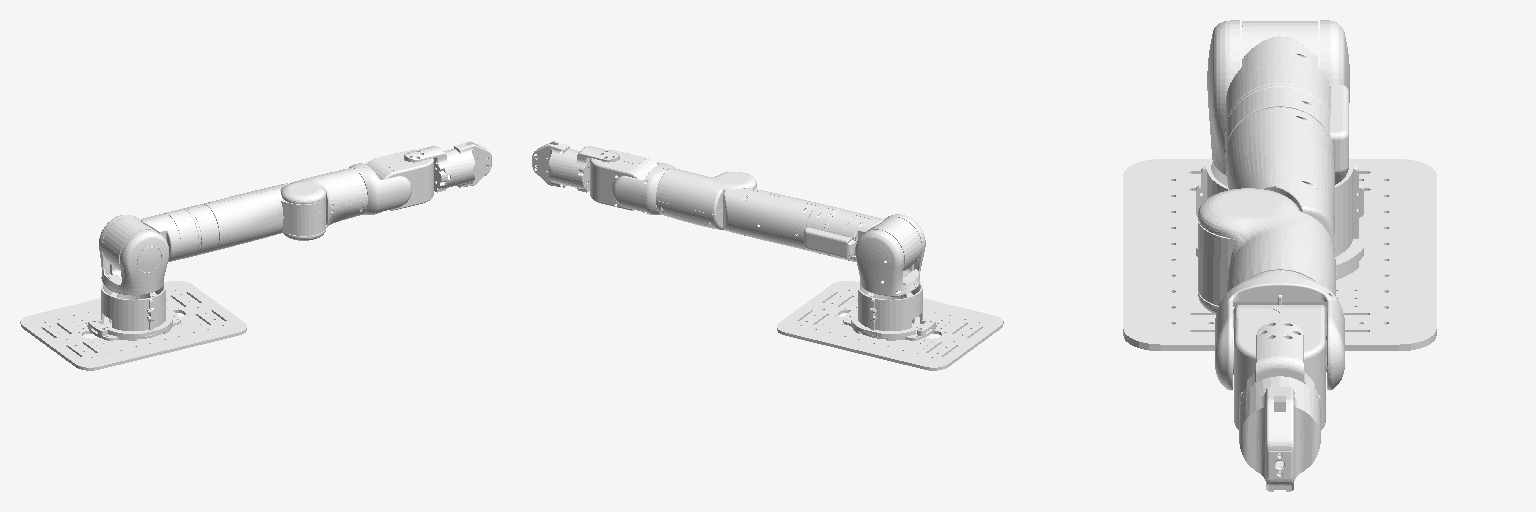
robot.urdf — robot_v0_1:
<?xml version="1.0" encoding="utf-8"?>
<!-- This URDF was automatically created by SolidWorks to URDF Exporter! Originally created by Stephen Brawner (brawner@gmail.com) 
     Commit Version: 1.6.0-1-g15f4949  Build Version: 1.6.7594.29634
     For more information, please see http://wiki.ros.org/sw_urdf_exporter -->
<robot
  name="robot_v0_1">
  <link
    name="Link_Base">
    <inertial>
      <origin
        xyz="0 0 0"
        rpy="0 0 0" />
      <mass
        value="0.73699097379513" />
      <inertia
        ixx="0.00310424608762092"
        ixy="2.04936789114909E-08"
        ixz="1.79945089448292E-06"
        iyy="0.00517845082119307"
        iyz="1.41495733008371E-08"
        izz="0.00806042356140205" />
    </inertial>
    <visual>
      <origin
        xyz="0 0 0"
        rpy="0 0 0" />
      <geometry>
        <mesh
          filename="../meshes/robot_v0_1/Link_Base_to_Shoulder_Inner.STL" />
      </geometry>
      <material
        name="">
        <color
          rgba="1 1 1 1" />
      </material>
    </visual>
    <collision>
      <origin
        xyz="0 0 0"
        rpy="0 0 0" />
      <geometry>
        <mesh
          filename="../meshes/robot_v0_1/Link_Base_to_Shoulder_Inner.STL" />
      </geometry>
    </collision>
  </link>
  <link
    name="Link_Shoulder_Inner_to_Shoulder_Outer">
    <inertial>
      <origin
        xyz="1.17646746075416E-05 -0.00561404287247842 0.0372121857080571"
        rpy="0 0 0" />
      <mass
        value="0.0942819142876385" />
      <inertia
        ixx="0.000185708314494992"
        ixy="-1.3218831985228E-08"
        ixz="5.35264232292923E-08"
        iyy="0.000100037331363557"
        iyz="8.5761701965383E-06"
        izz="0.000125340365369981" />
    </inertial>
    <visual>
      <origin
        xyz="0 0 0"
        rpy="0 0 0" />
      <geometry>
        <mesh
          filename="../meshes/robot_v0_1/Link_Shoulder_Inner_to_Shoulder_Outer.STL" />
      </geometry>
      <material
        name="">
        <color
          rgba="1 1 1 1" />
      </material>
    </visual>
    <collision>
      <origin
        xyz="0 0 0"
        rpy="0 0 0" />
      <geometry>
        <mesh
          filename="../meshes/robot_v0_1/Link_Shoulder_Inner_to_Shoulder_Outer.STL" />
      </geometry>
    </collision>
  </link>
  <joint
    name="Joint_Shoulder_Inner"
    type="revolute">
    <origin
      xyz="0 0 0.08"
      rpy="0 0 0" />
    <parent
      link="Link_Base" />
    <child
      link="Link_Shoulder_Inner_to_Shoulder_Outer" />
    <axis
      xyz="0 0 -1" />
    <limit
      lower="-2.897"
      upper="2.897"
      effort="18"
      velocity="0" />
  </joint>
  <link
    name="Link_Shoulder_Outer_to_UpperArm">
    <inertial>
      <origin
        xyz="0.0659231854341761 0.00400437161052575 -0.00114584286675949"
        rpy="0 0 0" />
      <mass
        value="0.247437187890716" />
      <inertia
        ixx="0.000289283072638283"
        ixy="-1.80267064277213E-06"
        ixz="-6.53308880372684E-06"
        iyy="0.000237983141148319"
        iyz="7.77972724650864E-07"
        izz="0.000339442732350915" />
    </inertial>
    <visual>
      <origin
        xyz="0 0 0"
        rpy="0 0 0" />
      <geometry>
        <mesh
          filename="../meshes/robot_v0_1/Link_Shoulder_Outer_to_UpperArm.STL" />
      </geometry>
      <material
        name="">
        <color
          rgba="1 1 1 1" />
      </material>
    </visual>
    <collision>
      <origin
        xyz="0 0 0"
        rpy="0 0 0" />
      <geometry>
        <mesh
          filename="../meshes/robot_v0_1/Link_Shoulder_Outer_to_UpperArm.STL" />
      </geometry>
    </collision>
  </link>
  <joint
    name="Joint_Shoulder_Outer"
    type="revolute">
    <origin
      xyz="0 0 0.0765000000000024"
      rpy="1.5707963267949 0 0" />
    <parent
      link="Link_Shoulder_Inner_to_Shoulder_Outer" />
    <child
      link="Link_Shoulder_Outer_to_UpperArm" />
    <axis
      xyz="0 0 1" />
    <limit
      lower="-0.314"
      upper="3.141"
      effort="18"
      velocity="0" />
  </joint>
  <link
    name="Link_UpperArm_to_Elbow">
    <inertial>
      <origin
        xyz="0.00263835411199406 0.0173508363008802 0.174137531716063"
        rpy="0 0 0" />
      <mass
        value="0.073458238101229" />
      <inertia
        ixx="0.000107400492801366"
        ixy="5.42782694620302E-06"
        ixz="7.38478381272835E-06"
        iyy="6.97322418221424E-05"
        iyz="-1.18017964033204E-05"
        izz="6.43288696275371E-05" />
    </inertial>
    <visual>
      <origin
        xyz="0 0 0"
        rpy="0 0 0" />
      <geometry>
        <mesh
          filename="../meshes/robot_v0_1/Link_UpperArm_to_Elbow.STL" />
      </geometry>
      <material
        name="">
        <color
          rgba="1 1 1 1" />
      </material>
    </visual>
    <collision>
      <origin
        xyz="0 0 0"
        rpy="0 0 0" />
      <geometry>
        <mesh
          filename="../meshes/robot_v0_1/Link_UpperArm_to_Elbow.STL" />
      </geometry>
    </collision>
  </link>
  <joint
    name="Joint_UpperArm"
    type="revolute">
    <origin
      xyz="0.151000000002354 0.00449999992100339 0"
      rpy="1.5707963267949 0 1.57079632627174" />
    <parent
      link="Link_Shoulder_Outer_to_UpperArm" />
    <child
      link="Link_UpperArm_to_Elbow" />
    <axis
      xyz="0 0 1" />
    <limit
      lower="-2.949"
      upper="2.949"
      effort="15"
      velocity="0" />
  </joint>
  <link
    name="Link_Elbow_to_Forearm">
    <inertial>
      <origin
        xyz="0.265716961042306 0.0239300286138791 0.130630248472108"
        rpy="0 0 0" />
      <mass
        value="72.9263724948731" />
      <inertia
        ixx="1.07043481550638"
        ixy="-0.0167792875857775"
        ixz="-0.821641548339351"
        iyy="4.47231555463743"
        iyz="-0.00861374727512398"
        izz="4.64562234536629" />
    </inertial>
    <visual>
      <origin
        xyz="0 0 0"
        rpy="0 0 0" />
      <geometry>
        <mesh
          filename="../meshes/robot_v0_1/Link_Elbow_to_Forearm.STL" />
      </geometry>
      <material
        name="">
        <color
          rgba="1 1 1 1" />
      </material>
    </visual>
    <collision>
      <origin
        xyz="0 0 0"
        rpy="0 0 0" />
      <geometry>
        <mesh
          filename="../meshes/robot_v0_1/Link_Elbow_to_Forearm.STL" />
      </geometry>
    </collision>
  </link>
  <joint
    name="Joint_Elbow"
    type="revolute">
    <origin
      xyz="0 0.0249999999999963 0.18559936426372"
      rpy="0 1.57069042079849 3.14159265358847" />
    <parent
      link="Link_UpperArm_to_Elbow" />
    <child
      link="Link_Elbow_to_Forearm" />
    <axis
      xyz="0 0 -1" />
    <limit
      lower="-2.617"
      upper="0"
      effort="12"
      velocity="0" />
  </joint>
  <link
    name="Link_Forearm_to_Wrist_Upper">
    <inertial>
      <origin
        xyz="1.23795203810229E-08 0.0244361410294369 0.035665504493152"
        rpy="0 0 0" />
      <mass
        value="0.041833151855143" />
      <inertia
        ixx="3.48325811391957E-05"
        ixy="7.14149844389006E-11"
        ixz="6.66965664112347E-11"
        iyy="2.5548591753033E-05"
        iyz="-1.11157060464966E-05"
        izz="2.23370342950788E-05" />
    </inertial>
    <visual>
      <origin
        xyz="0 0 0"
        rpy="0 0 0" />
      <geometry>
        <mesh
          filename="../meshes/robot_v0_1/Link_Forearm_to_Wrist_Upper.STL" />
      </geometry>
      <material
        name="">
        <color
          rgba="1 1 1 1" />
      </material>
    </visual>
    <collision>
      <origin
        xyz="0 0 0"
        rpy="0 0 0" />
      <geometry>
        <mesh
          filename="../meshes/robot_v0_1/Link_Forearm_to_Wrist_Upper.STL" />
      </geometry>
    </collision>
  </link>
  <joint
    name="Joint_Forearm"
    type="revolute">
    <origin
      xyz="-0.122001275453194 0.0250000000000001 1.29207320289648E-05"
      rpy="0 1.57069042132055 -3.14159265358907" />
    <parent
      link="Link_Elbow_to_Forearm" />
    <child
      link="Link_Forearm_to_Wrist_Upper" />
    <axis
      xyz="0 0 -1" />
    <limit
      lower="-2.949"
      upper="2.949"
      effort="9"
      velocity="0" />
  </joint>
  <link
    name="Link_Wrist_Upper_to_Wrist_Lower">
    <inertial>
      <origin
        xyz="-0.0195917504898981 -0.0177941029674887 -0.000659042883530386"
        rpy="0 0 0" />
      <mass
        value="0.0665629935736355" />
      <inertia
        ixx="6.7264939336556E-05"
        ixy="-1.52959801610021E-05"
        ixz="-1.8211576996099E-06"
        iyy="0.000156762842049803"
        iyz="5.23130507104262E-07"
        izz="0.000131466496398854" />
    </inertial>
    <visual>
      <origin
        xyz="0 0 0"
        rpy="0 0 0" />
      <geometry>
        <mesh
          filename="../meshes/robot_v0_1/Link_Wrist_Upper_to_Wrist_Lower.STL" />
      </geometry>
      <material
        name="">
        <color
          rgba="1 1 1 1" />
      </material>
    </visual>
    <collision>
      <origin
        xyz="0 0 0"
        rpy="0 0 0" />
      <geometry>
        <mesh
          filename="../meshes/robot_v0_1/Link_Wrist_Upper_to_Wrist_Lower.STL" />
      </geometry>
    </collision>
  </link>
  <joint
    name="Joint_Wrist_Upper"
    type="revolute">
    <origin
      xyz="0 0 0.0622993595797945"
      rpy="0 1.5707963267949 0" />
    <parent
      link="Link_Forearm_to_Wrist_Upper" />
    <child
      link="Link_Wrist_Upper_to_Wrist_Lower" />
    <axis
      xyz="0 -1 0" />
    <limit
      lower="-1.448"
      upper="1.448"
      effort="6"
      velocity="0" />
  </joint>
  <link
    name="Link_End_Effector">
    <inertial>
      <origin
        xyz="0.0785982599805929 -0.000210392435681819 0.00796201462406826"
        rpy="0 0 0" />
      <mass
        value="0.126996651273682" />
      <inertia
        ixx="7.85405362627995E-05"
        ixy="-7.76907162918023E-08"
        ixz="8.69729293796959E-06"
        iyy="0.000128112705285426"
        iyz="-9.93619019899932E-08"
        izz="8.22316981405025E-05" />
    </inertial>
    <visual>
      <origin
        xyz="0 0 0"
        rpy="0 0 0" />
      <geometry>
        <mesh
          filename="../meshes/robot_v0_1/Link_Wrist_Lower_to_Gripper.STL" />
      </geometry>
      <material
        name="">
        <color
          rgba="1 1 1 1" />
      </material>
    </visual>
    <collision>
      <origin
        xyz="0 0 0"
        rpy="0 0 0" />
      <geometry>
        <mesh
          filename="../meshes/robot_v0_1/Link_Wrist_Lower_to_Gripper.STL" />
      </geometry>
    </collision>
  </link>
  <joint
    name="Joint_Wrist_Lower"
    type="revolute">
    <origin
      xyz="-0.0591999999999987 0 0"
      rpy="0 0 3.14159265358979" />
    <parent
      link="Link_Wrist_Upper_to_Wrist_Lower" />
    <child
      link="Link_End_Effector" />
    <axis
      xyz="0 0 1" />
    <limit
      lower="-1.448"
      upper="1.448"
      effort="3"
      velocity="0" />
  </joint>
</robot>

--- Facts derived from the render (not from the file) ---
3 views of the same robot in one strip: view 1: azimuth 30°, elevation 25°; view 2: azimuth 150°, elevation 25°; view 3: azimuth 270°, elevation 25° (orthographic).
Robot: robot_v0_1 — 8 links, 7 joints (7 revolute); root link Link_Base; default pose: every joint at zero.
Visible links, largest first — view 1: Link_Base, Link_UpperArm_to_Elbow, Link_Shoulder_Outer_to_UpperArm, Link_Shoulder_Inner_to_Shoulder_Outer, Link_Elbow_to_Forearm, Link_End_Effector, Link_Wrist_Upper_to_Wrist_Lower, Link_Forearm_to_Wrist_Upper; view 2: Link_Base, Link_UpperArm_to_Elbow, Link_Shoulder_Outer_to_UpperArm, Link_Elbow_to_Forearm, Link_Shoulder_Inner_to_Shoulder_Outer, Link_End_Effector, Link_Wrist_Upper_to_Wrist_Lower, Link_Forearm_to_Wrist_Upper; view 3: Link_Base, Link_UpperArm_to_Elbow, Link_End_Effector, Link_Shoulder_Outer_to_UpperArm, Link_Elbow_to_Forearm, Link_Forearm_to_Wrist_Upper, Link_Shoulder_Inner_to_Shoulder_Outer, Link_Wrist_Upper_to_Wrist_Lower.
Boxes of the visible links, <box> form: Link_Base: <box>20,281,246,370</box>; Link_UpperArm_to_Elbow: <box>204,183,325,250</box>; Link_Shoulder_Outer_to_UpperArm: <box>102,204,218,270</box>; Link_Shoulder_Inner_to_Shoulder_Outer: <box>99,215,168,295</box>; Link_Elbow_to_Forearm: <box>281,168,367,240</box>; Link_End_Effector: <box>404,141,491,192</box>; Link_Wrist_Upper_to_Wrist_Lower: <box>366,150,433,210</box>; Link_Forearm_to_Wrist_Upper: <box>349,162,411,214</box>; Link_Base: <box>777,281,1003,370</box>; Link_UpperArm_to_Elbow: <box>723,187,819,250</box>; Link_Shoulder_Outer_to_UpperArm: <box>804,204,921,270</box>; Link_Elbow_to_Forearm: <box>656,168,756,229</box>; Link_Shoulder_Inner_to_Shoulder_Outer: <box>855,214,925,296</box>; Link_End_Effector: <box>532,141,619,192</box>; Link_Wrist_Upper_to_Wrist_Lower: <box>590,150,657,210</box>; Link_Forearm_to_Wrist_Upper: <box>612,162,674,214</box>; Link_Base: <box>1123,157,1436,350</box>; Link_UpperArm_to_Elbow: <box>1198,107,1334,305</box>; Link_End_Effector: <box>1239,320,1320,491</box>; Link_Shoulder_Outer_to_UpperArm: <box>1225,21,1348,173</box>; Link_Elbow_to_Forearm: <box>1198,188,1335,336</box>; Link_Forearm_to_Wrist_Upper: <box>1215,270,1344,390</box>; Link_Shoulder_Inner_to_Shoulder_Outer: <box>1207,20,1349,175</box>; Link_Wrist_Upper_to_Wrist_Lower: <box>1234,305,1325,429</box>.
Size in the robot's own frame: 0.9094 by 0.25 by 0.2077 metres.
8 mesh visuals loaded from 8 distinct referenced files (8 binary STL).
